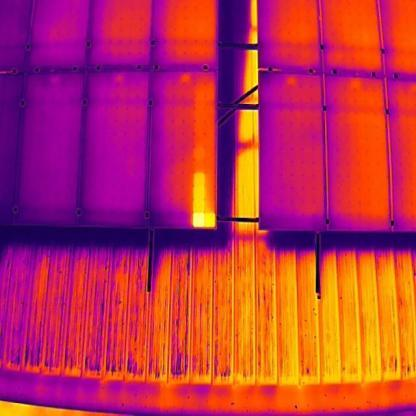anomaly: (189, 170, 222, 230)
